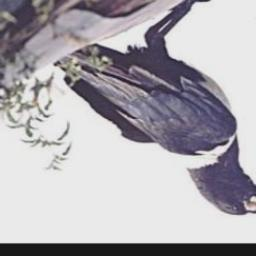Crow: (44, 0, 256, 218)
